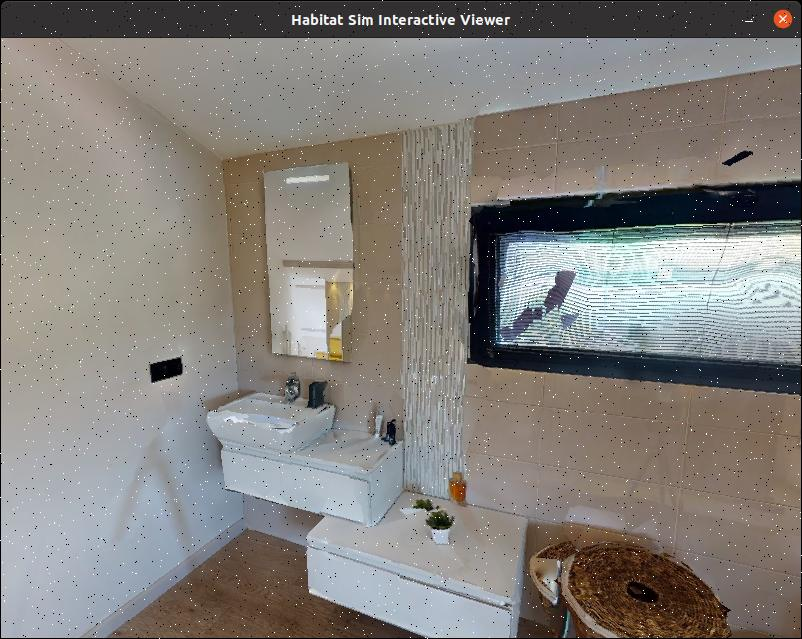sink: (213, 377, 350, 463)
